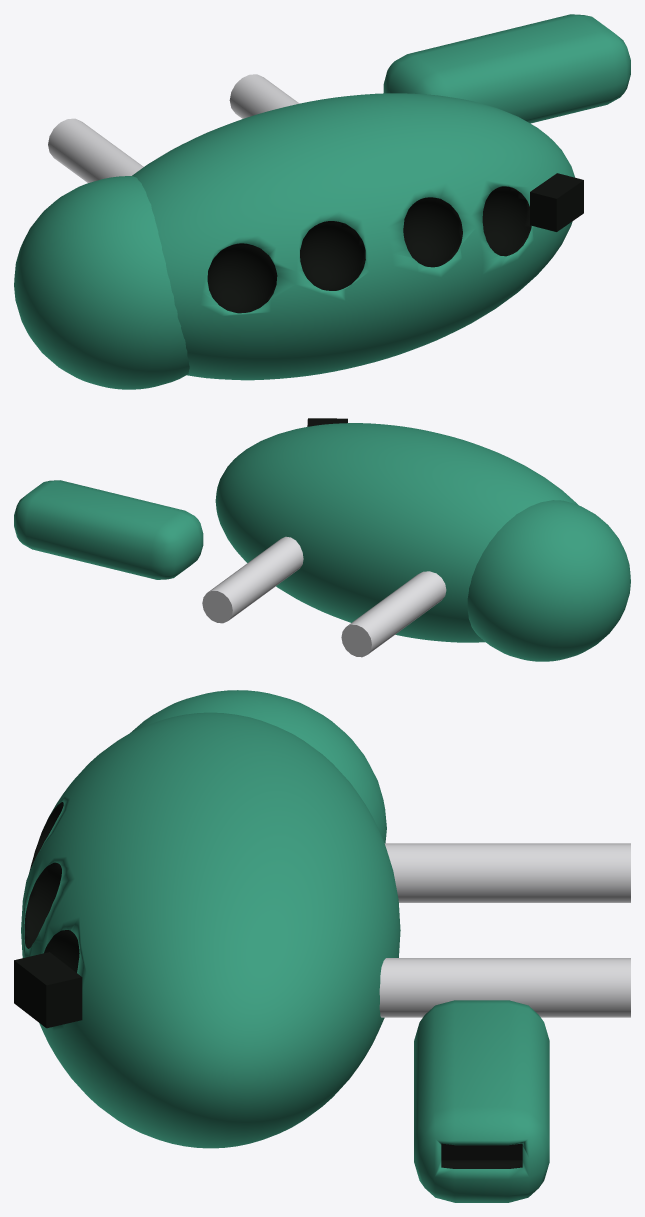
The picture shows the model from 3 angles, top to bottom: view 1: azimuth 30°, elevation 25°; view 2: azimuth 150°, elevation 25°; view 3: azimuth 270°, elevation 25°; orthographic projection. The views are drawn at different scales.
Parts seen in each view (by area): view 1: ocarina_v5_default; view 2: ocarina_v5_default; view 3: ocarina_v5_default.
Boxes of the visible parts, box(x1,y1,x2,y2) form: ocarina_v5_default: box(14, 14, 630, 389); ocarina_v5_default: box(14, 418, 630, 661); ocarina_v5_default: box(14, 690, 630, 1202).
Bounding box in the file's own units: 0.75 × 0.25 × 0.4551.
